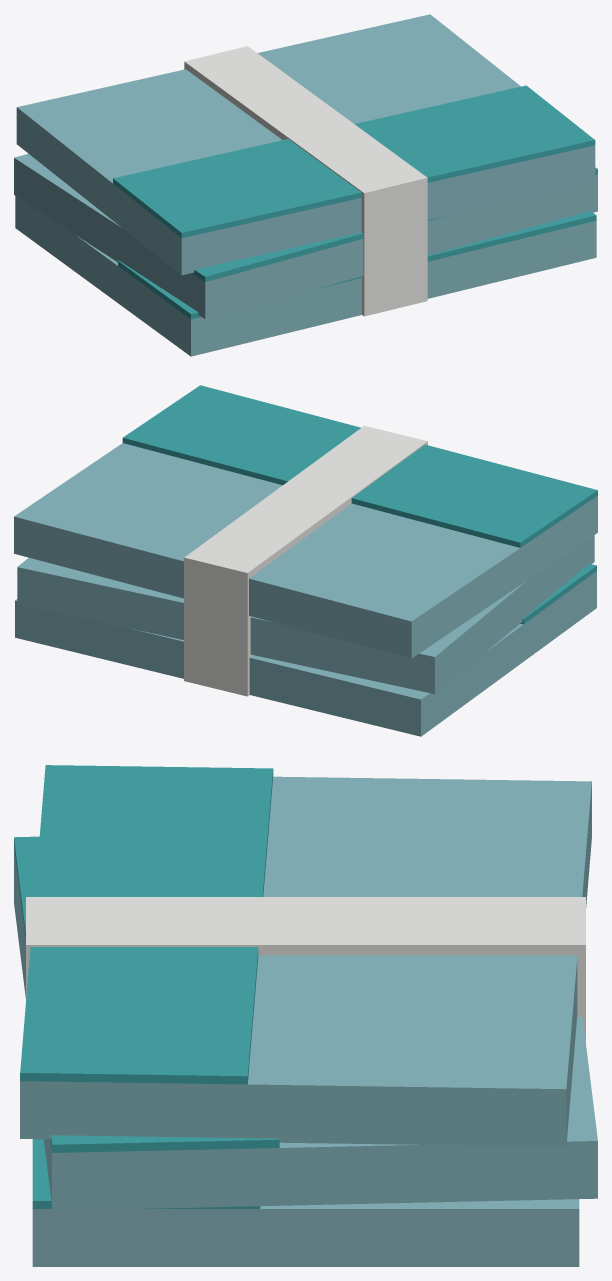
The model's file is Surgical_Gown.fbx.
The picture shows the model from 3 angles, top to bottom: view 1: azimuth 30°, elevation 25°; view 2: azimuth 150°, elevation 25°; view 3: azimuth 270°, elevation 25°; orthographic projection. The views are drawn at different scales.
Parts seen in each view (by area): view 1: Surgical_Gown; view 2: Surgical_Gown; view 3: Surgical_Gown.
Boxes of the visible parts, bbox=[...] form: Surgical_Gown: bbox=[14, 14, 597, 356]; Surgical_Gown: bbox=[14, 385, 597, 736]; Surgical_Gown: bbox=[14, 765, 597, 1266].
Size of the model in its own units: 0.3321 by 0.093 by 0.2564.
